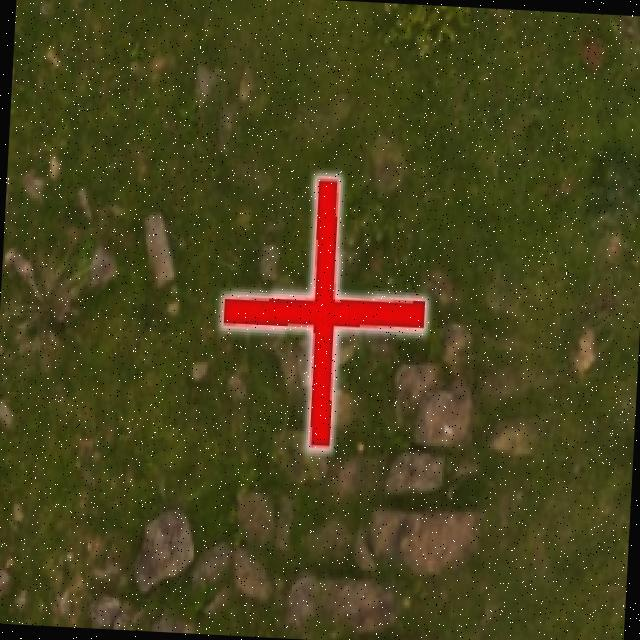x_marker: (217, 172, 430, 452)
